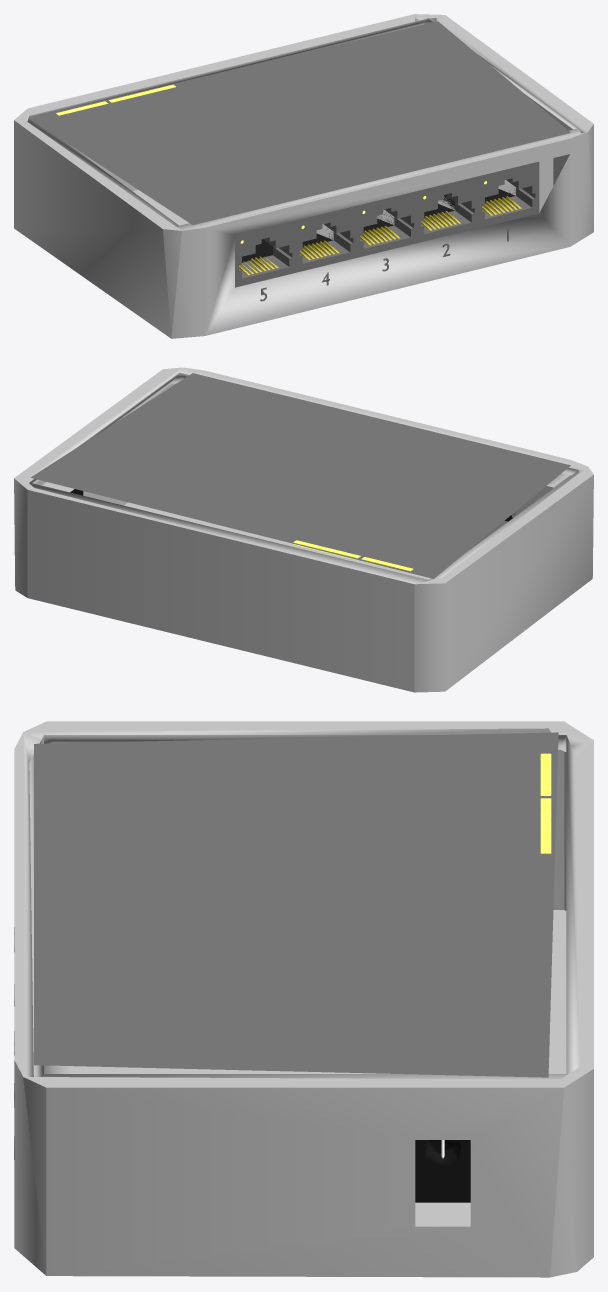
Rendered from dev-switch_lod2.glb.
3 views of the same model, one above another, from view 1: azimuth 30°, elevation 25°; view 2: azimuth 150°, elevation 25°; view 3: azimuth 270°, elevation 25° (orthographic). The views are drawn at different scales.
Parts seen in each view (by area): view 1: body; view 2: body; view 3: body.
Part boxes in pixels (x1=…): body: x1=14, y1=14, x2=593, y2=338; body: x1=14, y1=367, x2=593, y2=692; body: x1=14, y1=721, x2=593, y2=1277.
Size of the model in its own units: 0.0996 by 0.0239 by 0.0664.
